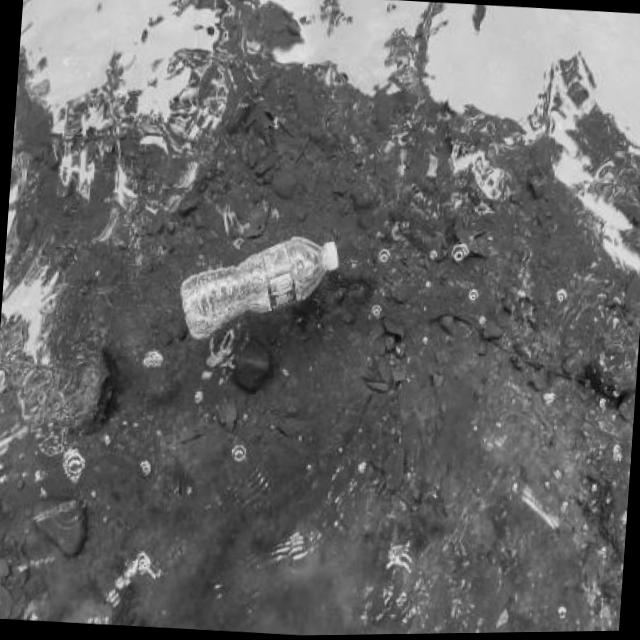Plastic: (170, 222, 349, 356)
